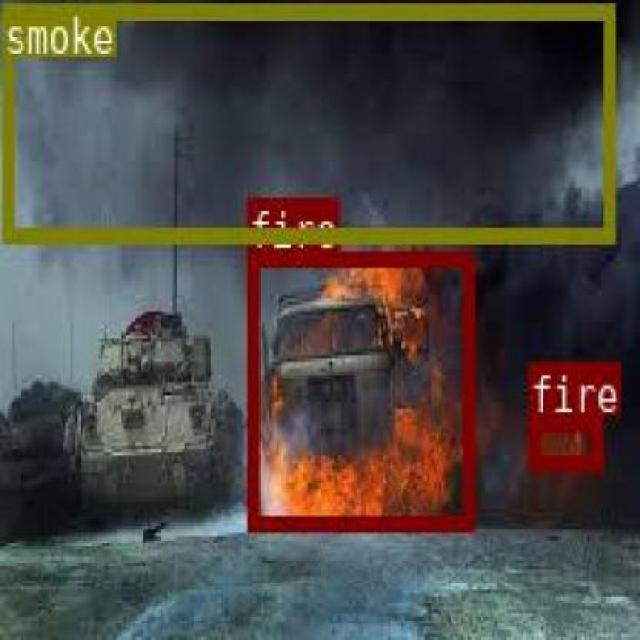Smoke: (0, 2, 611, 238)
